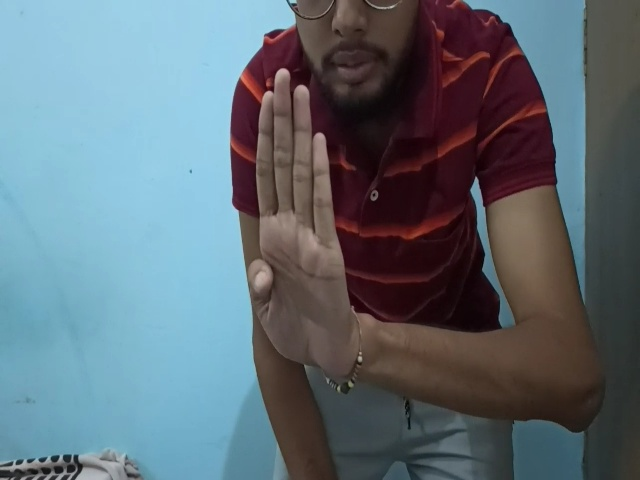B: (247, 68, 353, 373)
